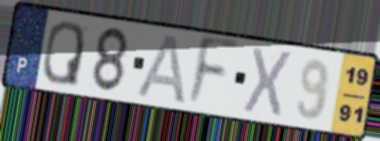8: (89, 24, 133, 94)
9: (295, 56, 334, 123)
A: (134, 32, 188, 106)
F: (184, 33, 242, 111)
Q: (40, 19, 87, 89)
X: (241, 45, 296, 121)
